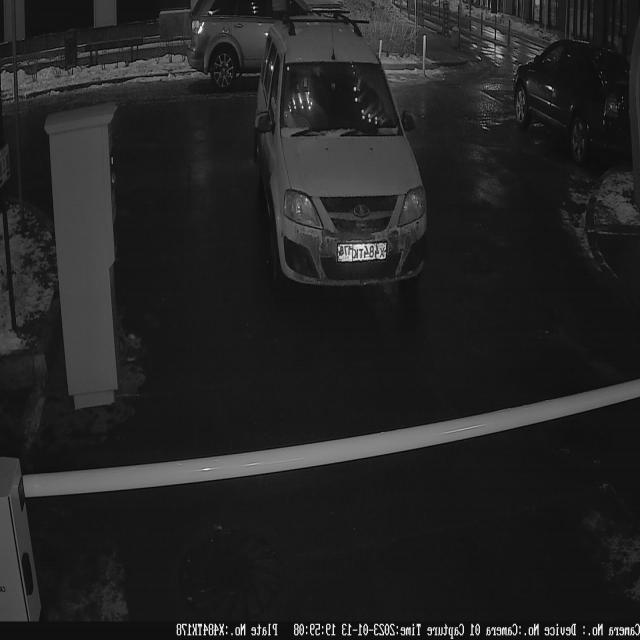car-plate-numbers: (336, 239, 392, 270)
